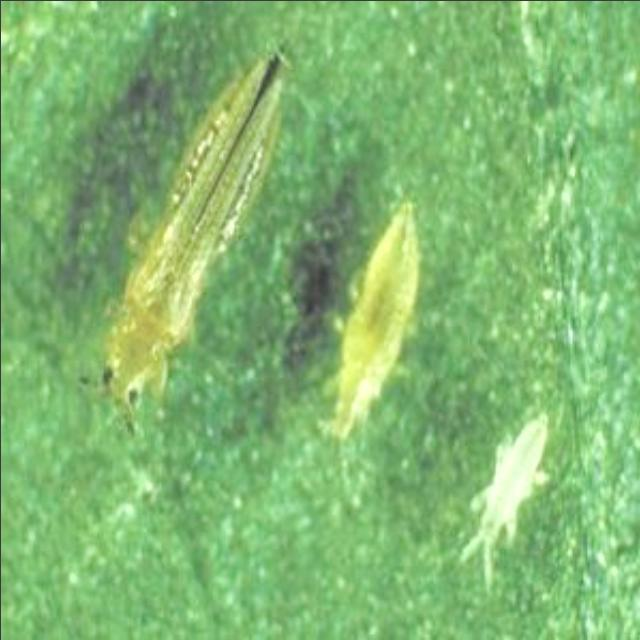melon thrips: (51, 17, 322, 437), (292, 171, 470, 463), (448, 401, 588, 594)
